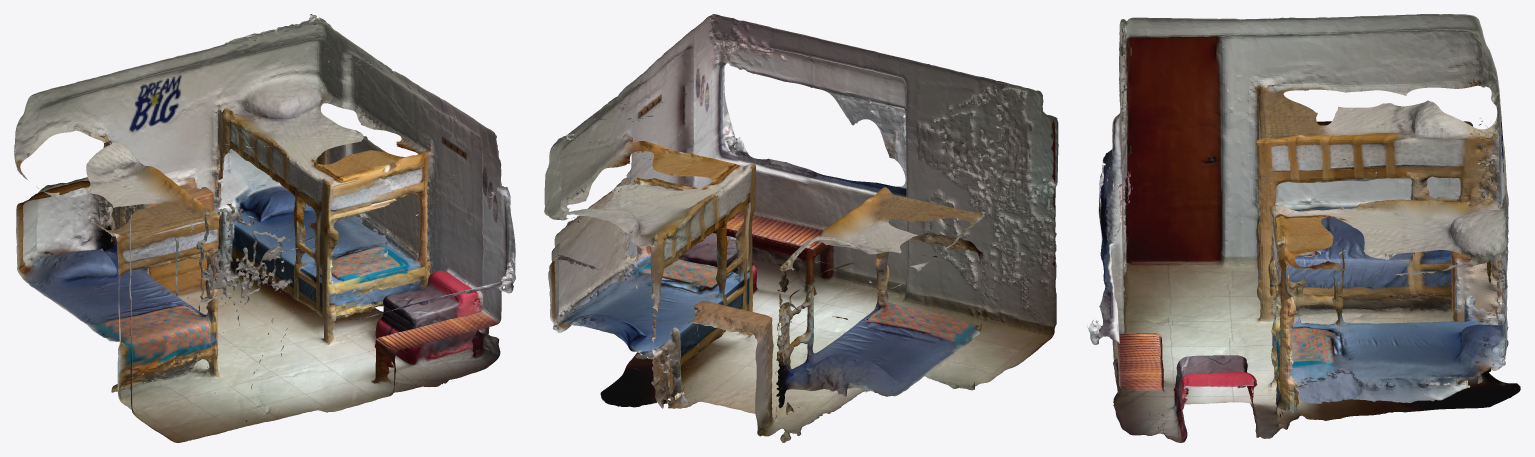
File: camarotes.glb
The picture shows the model from 3 angles, left to right: view 1: azimuth 30°, elevation 25°; view 2: azimuth 150°, elevation 25°; view 3: azimuth 270°, elevation 25°; orthographic projection. The views are drawn at different scales.
Size of the model in its own units: 3.78 by 2.55 by 3.76.
Materials: 2 (2 with a texture image).
